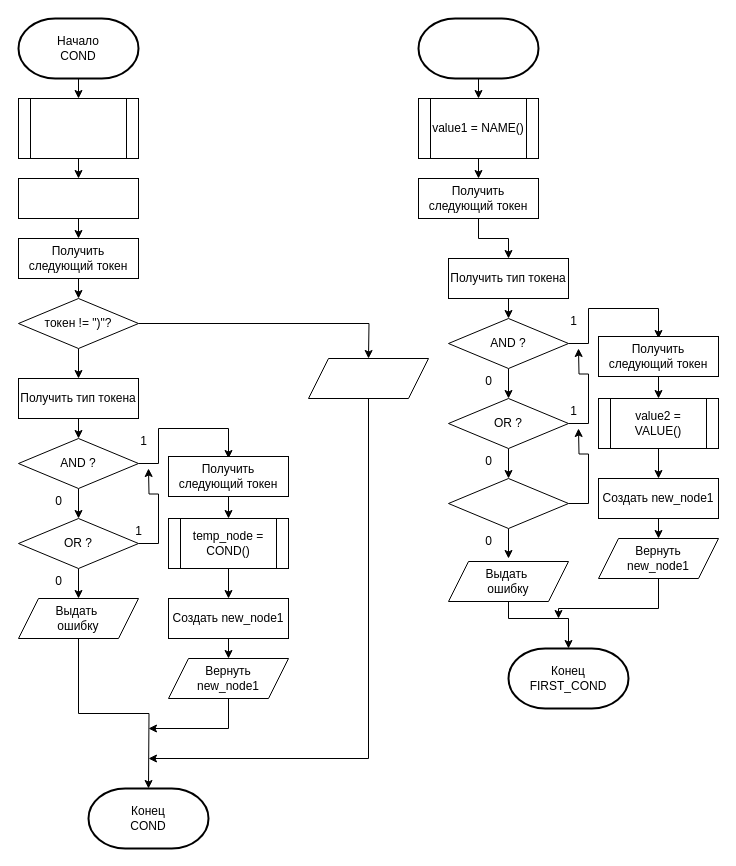
Image size: 736x866. Some labels were removed from this diagram. Each missing label, with the centre of its shape:
"COM ?" goes at point (508, 503).
"cond1_node = FIRST_COND()" goes at point (78, 128).
"Вернуть new_node" goes at point (368, 378).
"Начало FIRST_COND" goes at point (478, 48).
"Создать new_node" goes at point (78, 198).
